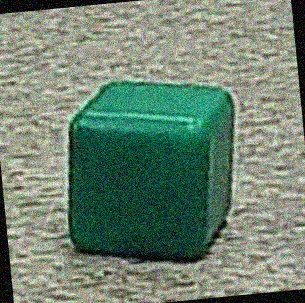green_cube: (52, 69, 265, 273)
